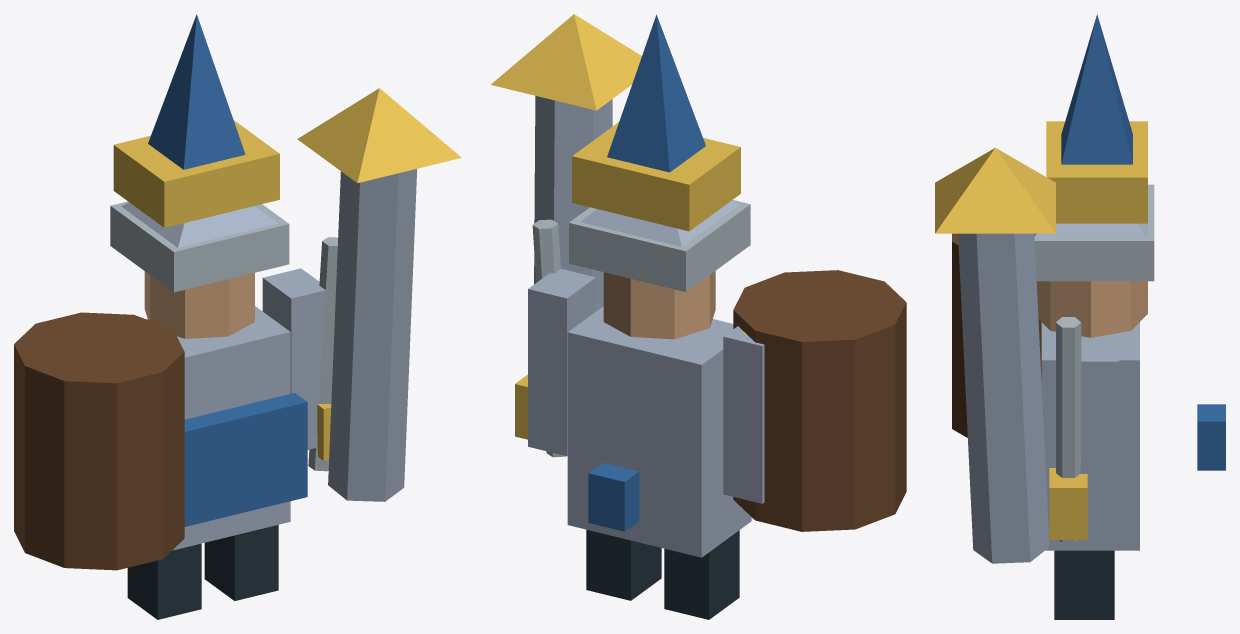
The model's file is club-fighter.obj.
3 renders of one model, left to right at view 1: azimuth 30°, elevation 25°; view 2: azimuth 150°, elevation 25°; view 3: azimuth 270°, elevation 25°, orthographic.
Parts seen in each view (by area): view 1: infantry; view 2: infantry; view 3: infantry.
Boxes of the visible parts, x1,y1,x2,y2 form: infantry: (14,14,461,619); infantry: (491,14,906,619); infantry: (935,14,1225,619).
Bounding box in the file's own units: 1.41 × 2 × 0.915.
